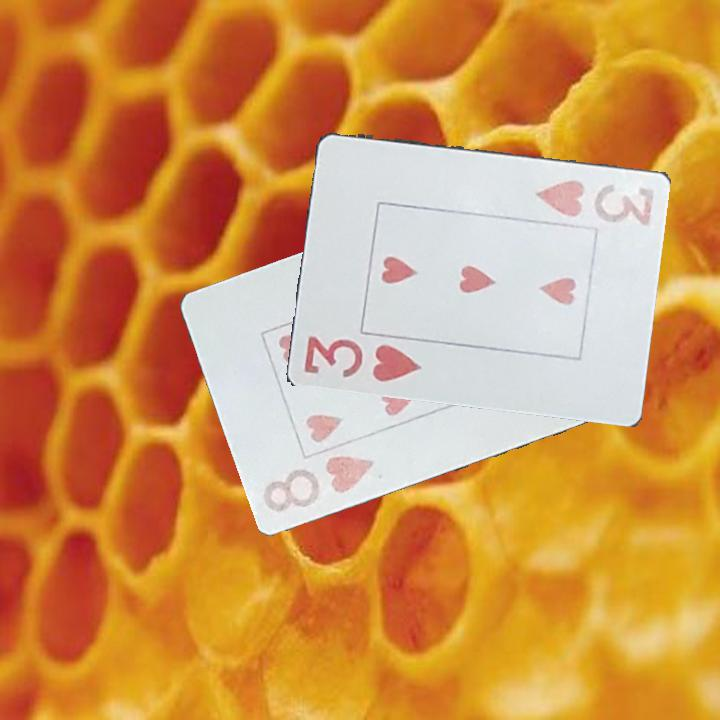3h: (301, 331, 425, 385), (533, 176, 658, 228)
8h: (259, 451, 377, 515)
